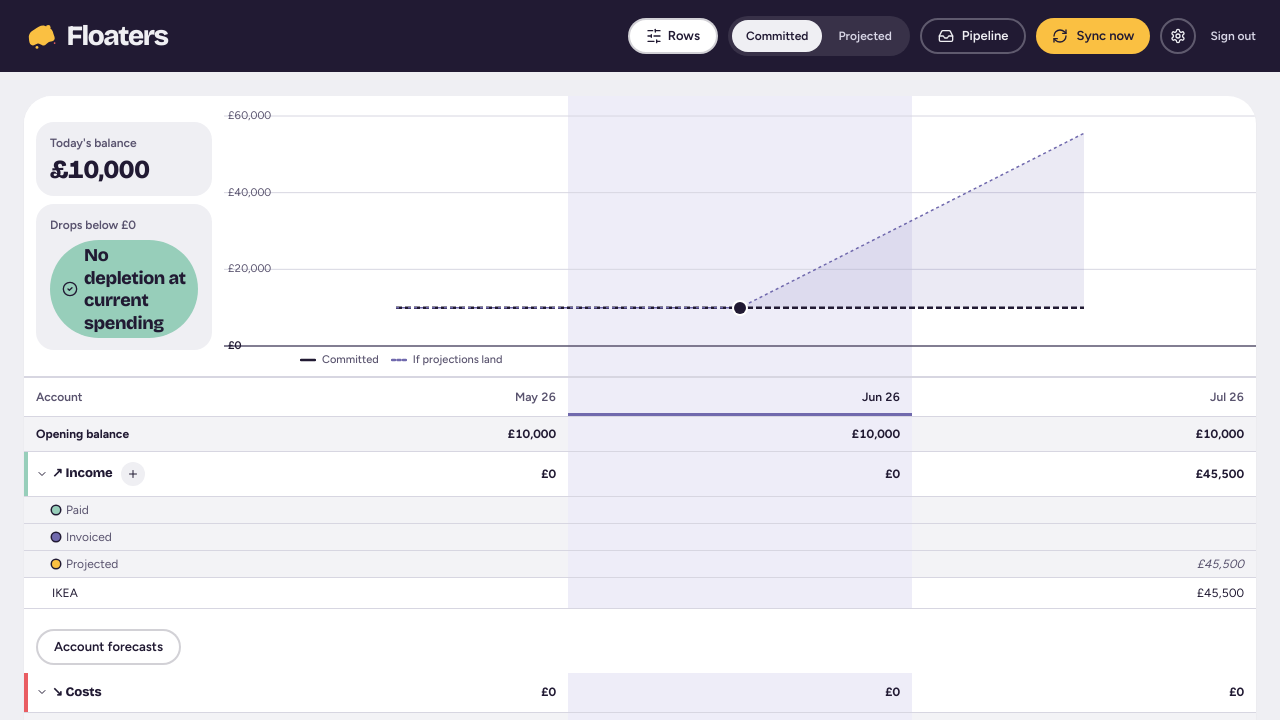
Test: forecast view toggle › majoring on projected swaps the summary rows to the optimistic walk
Check: the text "IKEA" is shown, box [24,578,224,608]
Step 1. Click the button "Projected" → [865, 36], box [824,20,906,52]
(page scrolled)
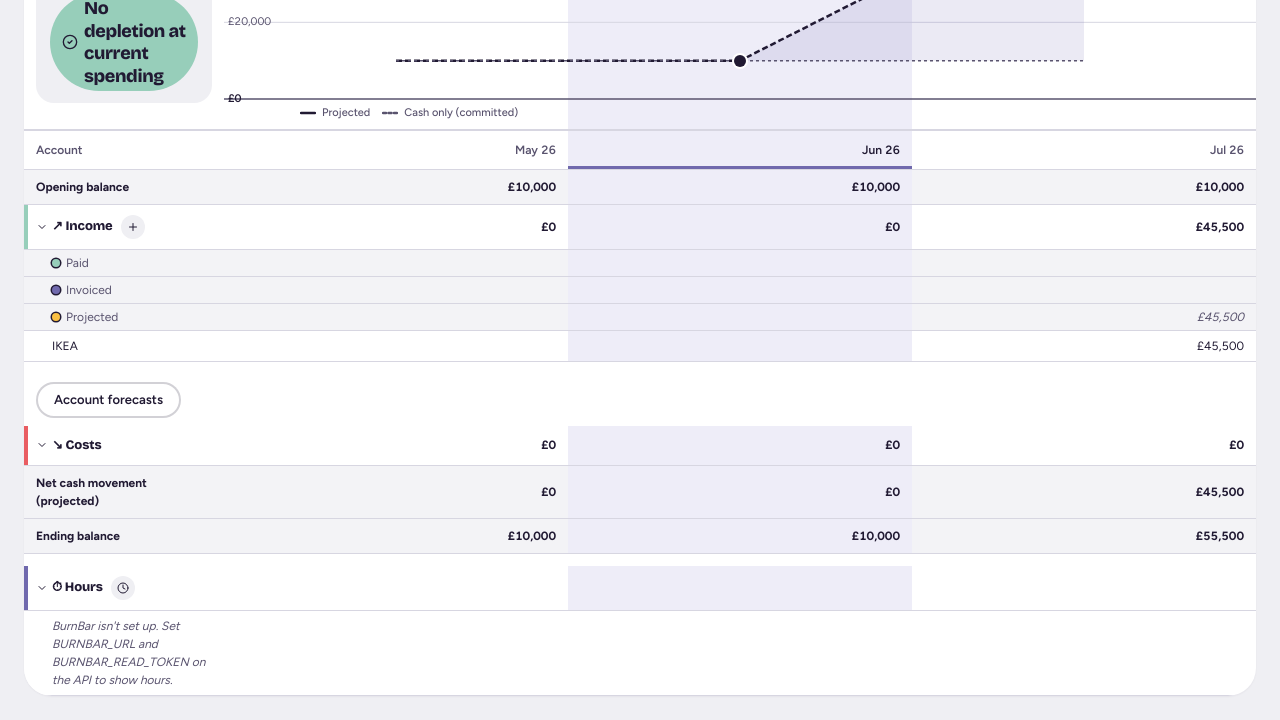
Check: the text "Net cash movement (projected)" is shown, box [24,466,224,518]
Check: the text "£55,500" is shown, box [912,518,1256,554]
